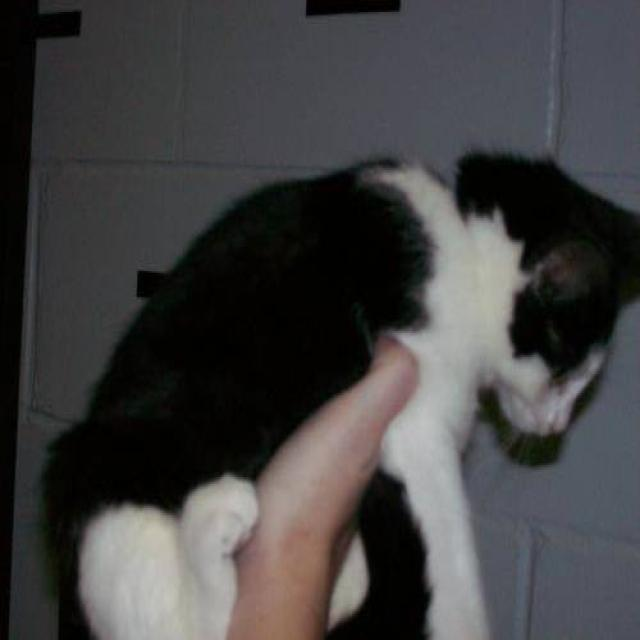cat: (38, 148, 639, 638)
